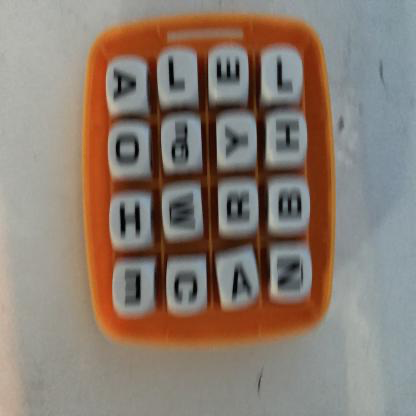a: (218, 249, 259, 307), (109, 56, 147, 107)
b: (269, 178, 311, 230)
c: (168, 257, 208, 313)
e: (112, 261, 155, 314), (208, 48, 250, 99)
h: (110, 193, 153, 249), (266, 111, 307, 163)
l: (261, 47, 303, 100), (159, 50, 199, 105)
n: (271, 244, 313, 300)
o: (108, 122, 150, 174)
qu: (161, 114, 203, 172)
r: (219, 179, 260, 234)
w: (163, 186, 203, 240)
y: (216, 112, 258, 167)
